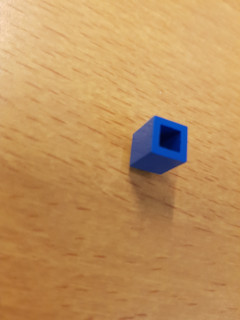1x1 blue: (127, 113, 192, 177)
